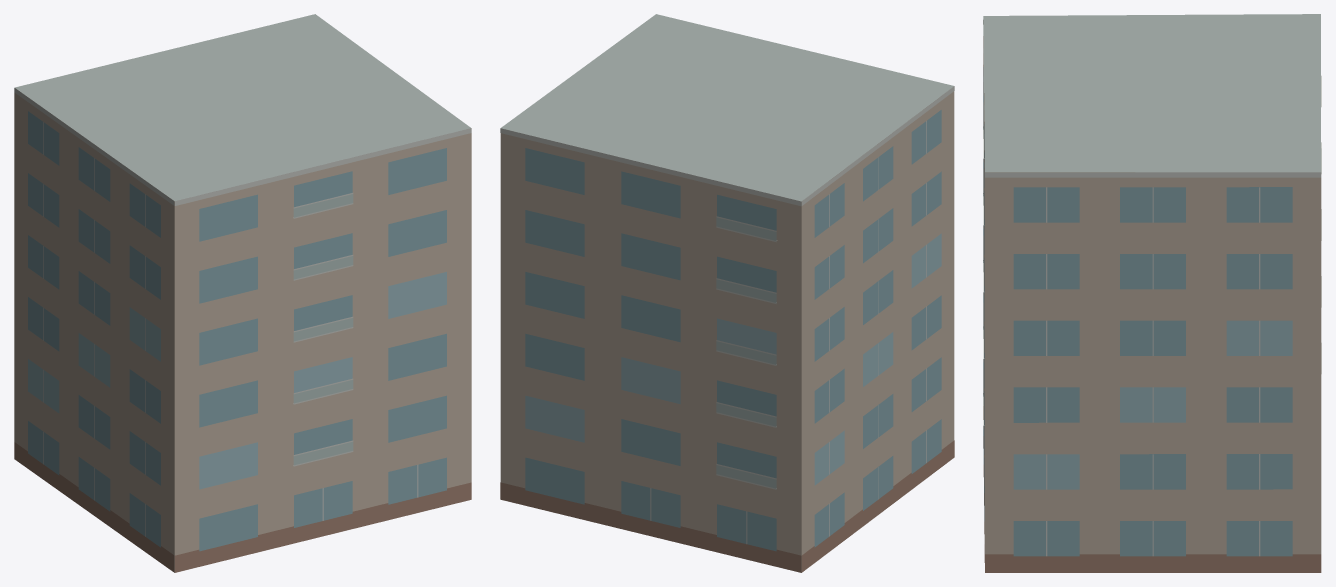
File: survey-upis-32813379.glb
The picture shows the model from 3 angles, left to right: view 1: azimuth 30°, elevation 25°; view 2: azimuth 150°, elevation 25°; view 3: azimuth 270°, elevation 25°; orthographic projection. The views are drawn at different scales.
Visible parts, largest first — view 1: survey-upis-32813379.tmp; view 2: survey-upis-32813379.tmp; view 3: survey-upis-32813379.tmp.
Part boxes in pixels (x1,y1,x2,y2): survey-upis-32813379.tmp: (14,14,471,572); survey-upis-32813379.tmp: (500,14,954,572); survey-upis-32813379.tmp: (983,14,1321,572).
Bounding box in the file's own units: 15.79 × 18.6 × 14.27.
